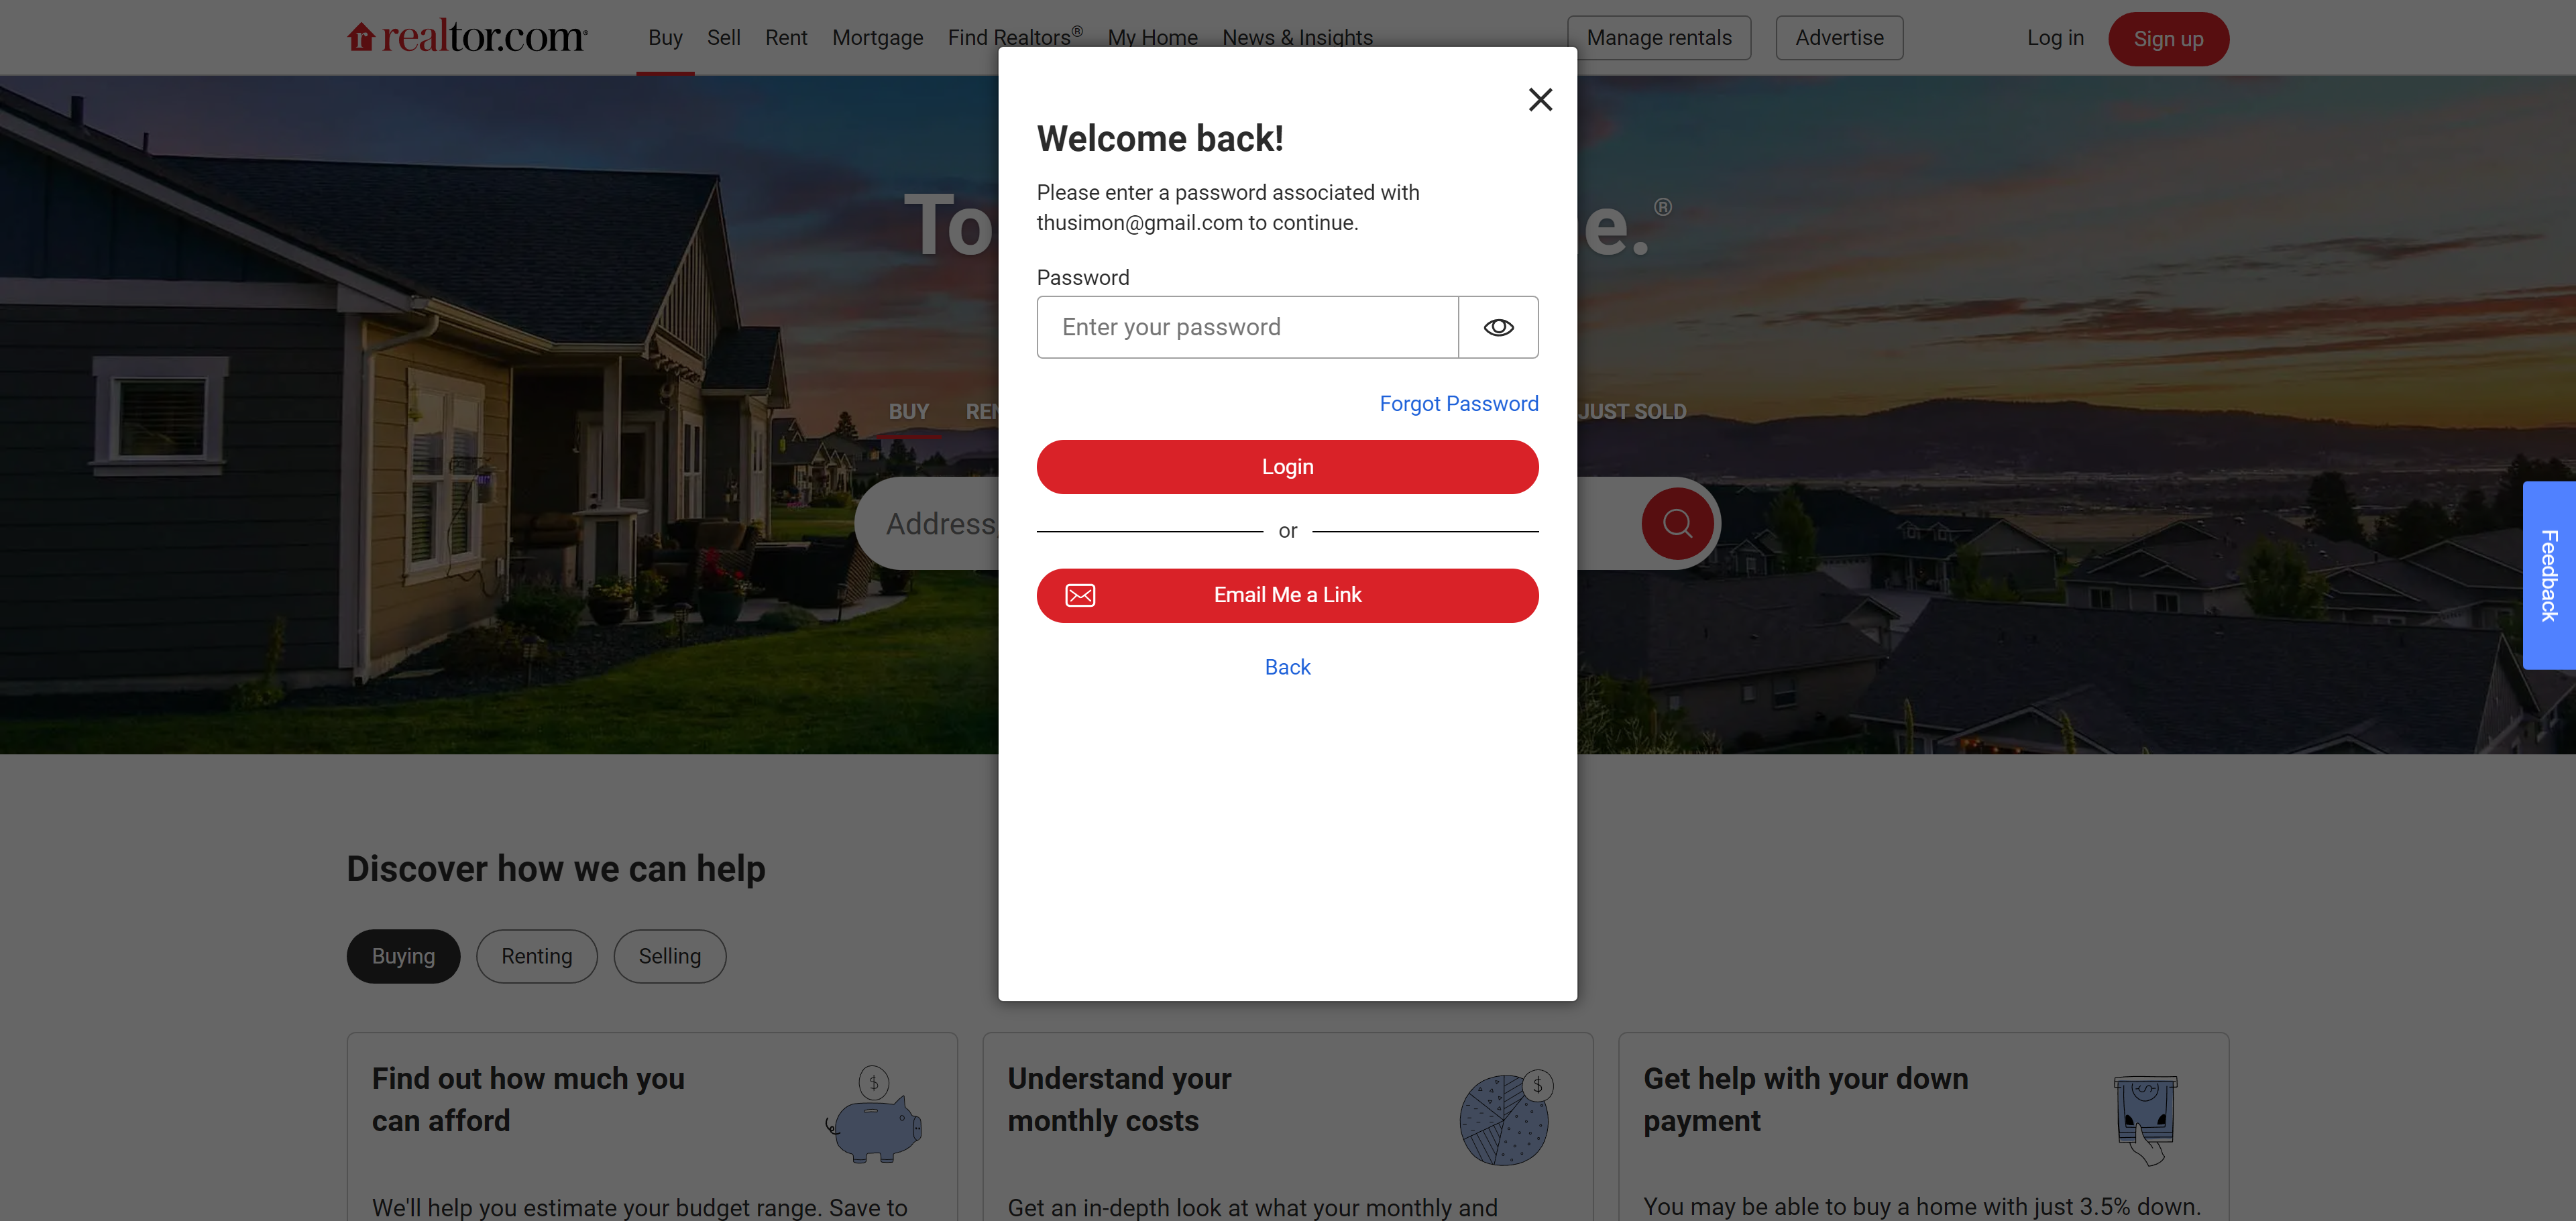login_button: (1037, 440, 1539, 493)
login_form: (1030, 263, 1544, 501)
